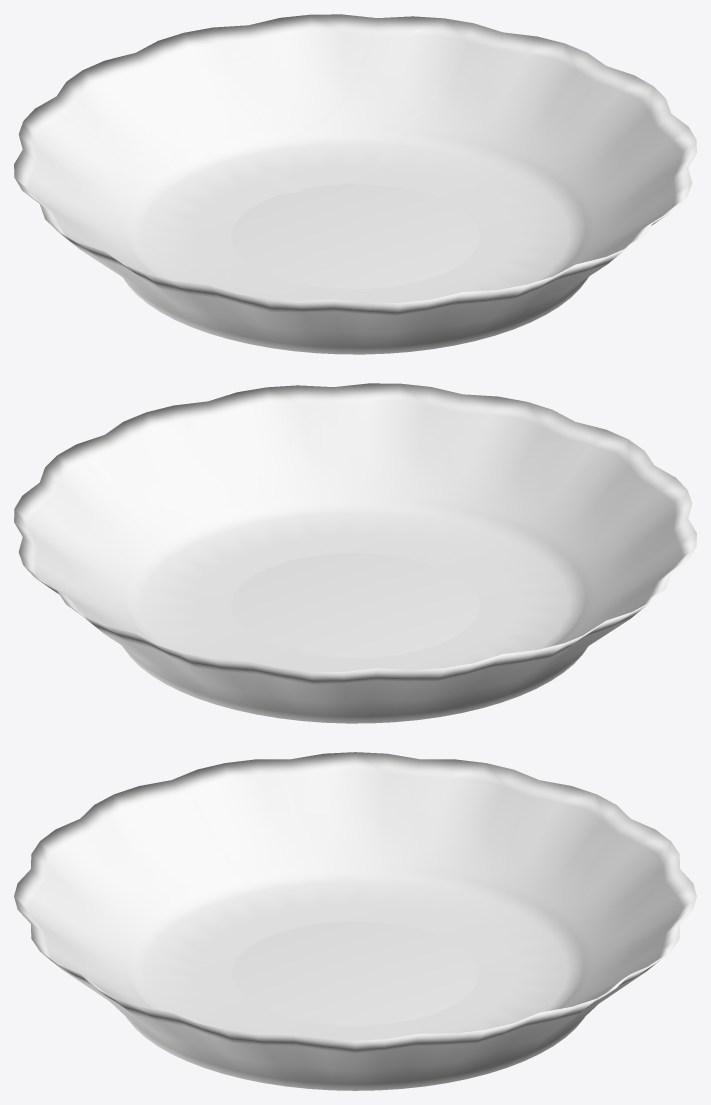
File: Prato2.fbx
3 renders of one model, top to bottom at view 1: azimuth 30°, elevation 25°; view 2: azimuth 150°, elevation 25°; view 3: azimuth 270°, elevation 25°, orthographic.
Visible parts, largest first — view 1: Prato2; view 2: Prato2; view 3: Prato2.
Part boxes in pixels (box(x1,y1,x2,y2)): Prato2: box(14, 14, 696, 354); Prato2: box(14, 383, 696, 723); Prato2: box(14, 752, 696, 1090).
Size of the model in its own units: 120 by 18.47 by 120.
